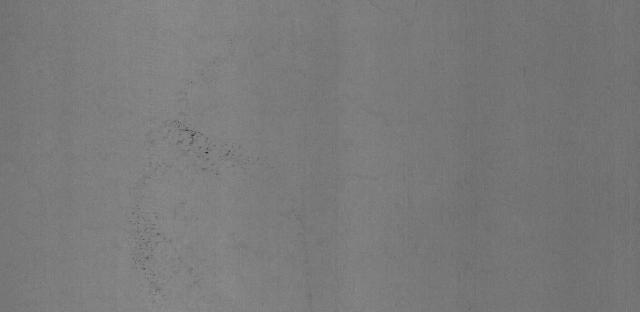inclusion: (150, 111, 252, 179), (130, 208, 196, 304)
